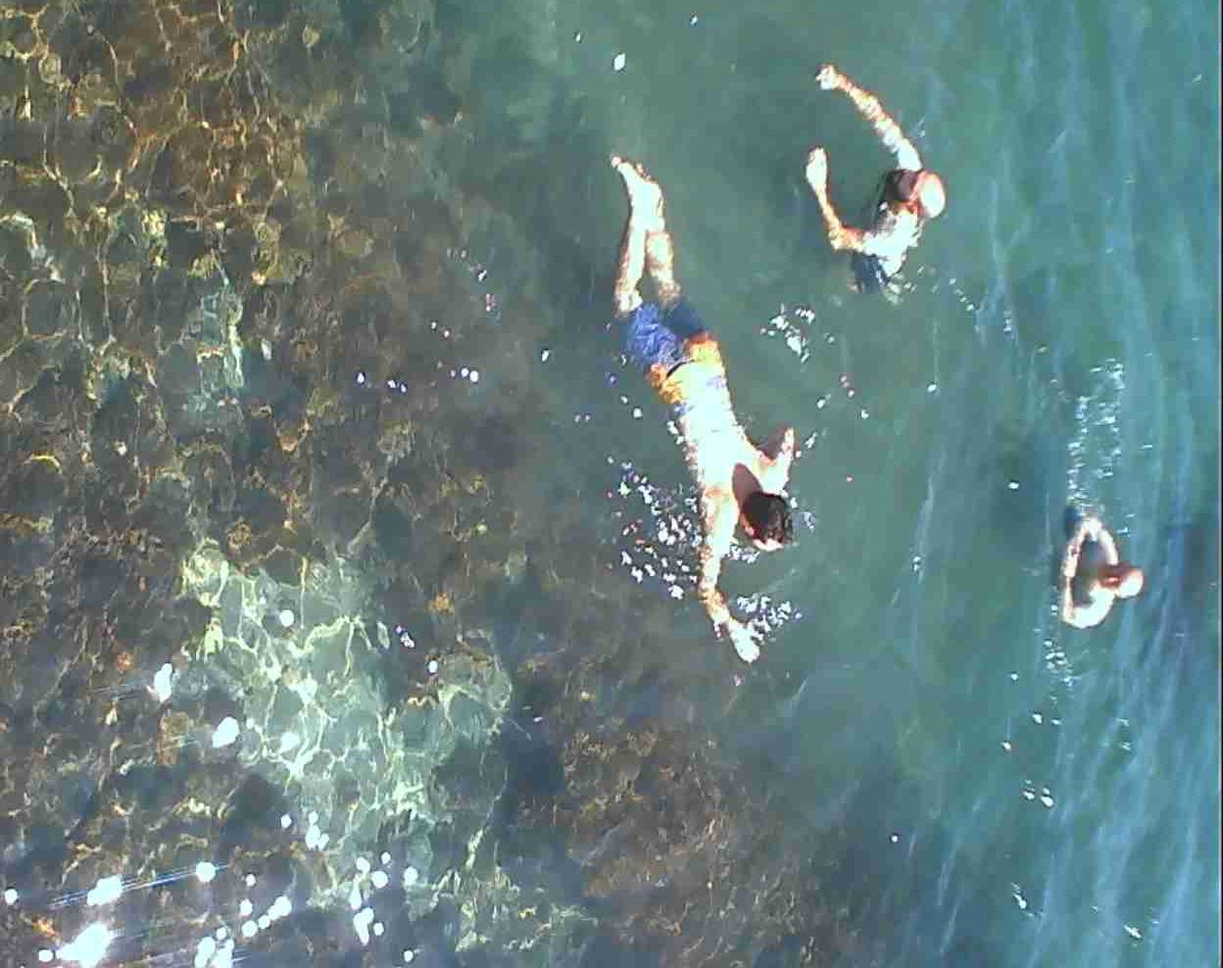human: (585, 140, 834, 659), (804, 16, 929, 310), (1019, 459, 1175, 678)
